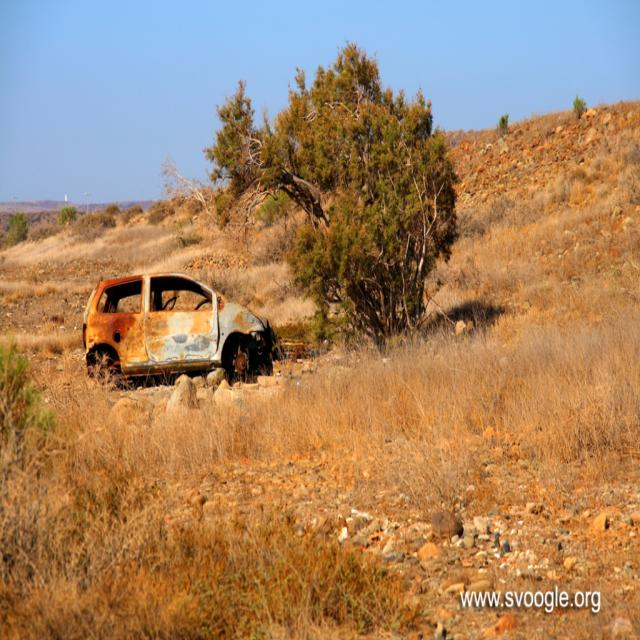car: (75, 265, 278, 395)
